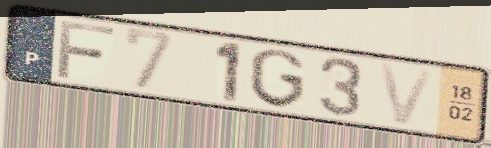1: (212, 40, 245, 106)
3: (317, 55, 367, 120)
7: (121, 25, 180, 95)
F: (54, 18, 118, 81)
G: (247, 47, 307, 111)
V: (375, 59, 440, 128)
